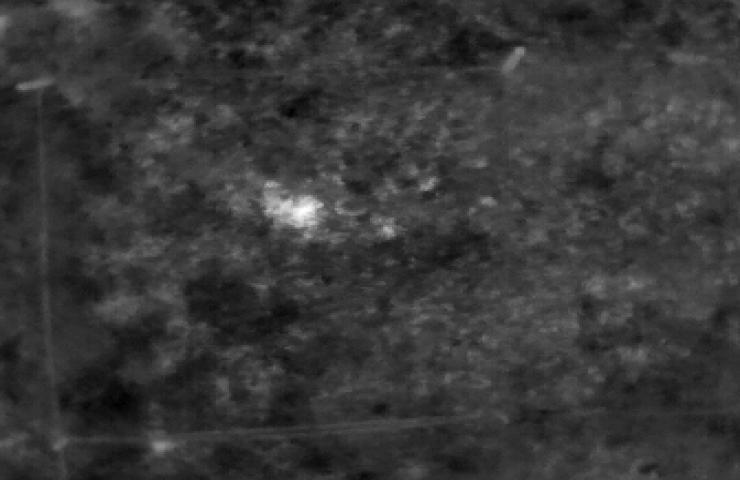landmines: (264, 193, 330, 233)
